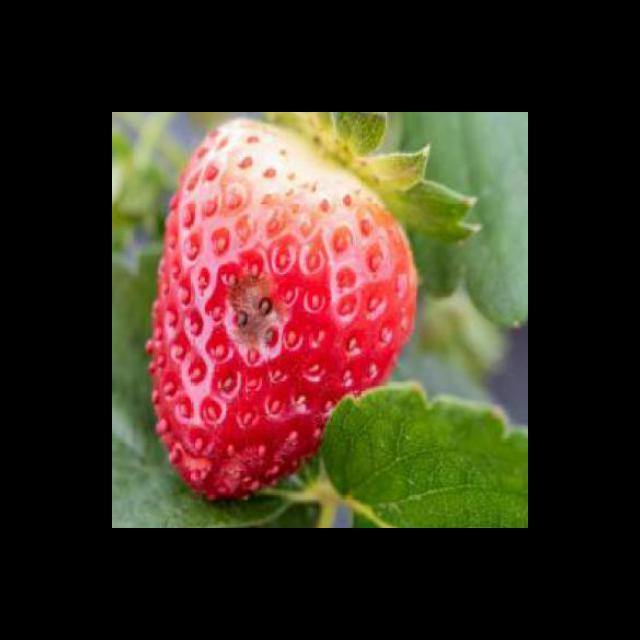Anthracnose Fruit Rot: (206, 250, 301, 364)
